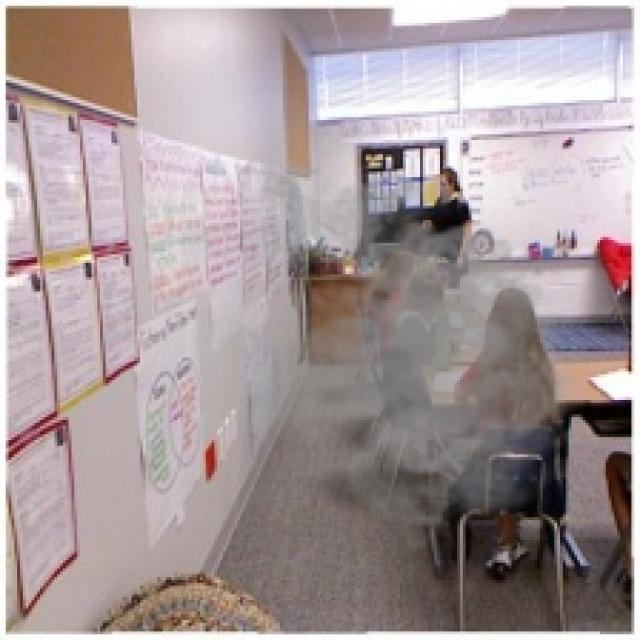Smoke: (188, 152, 600, 554)
